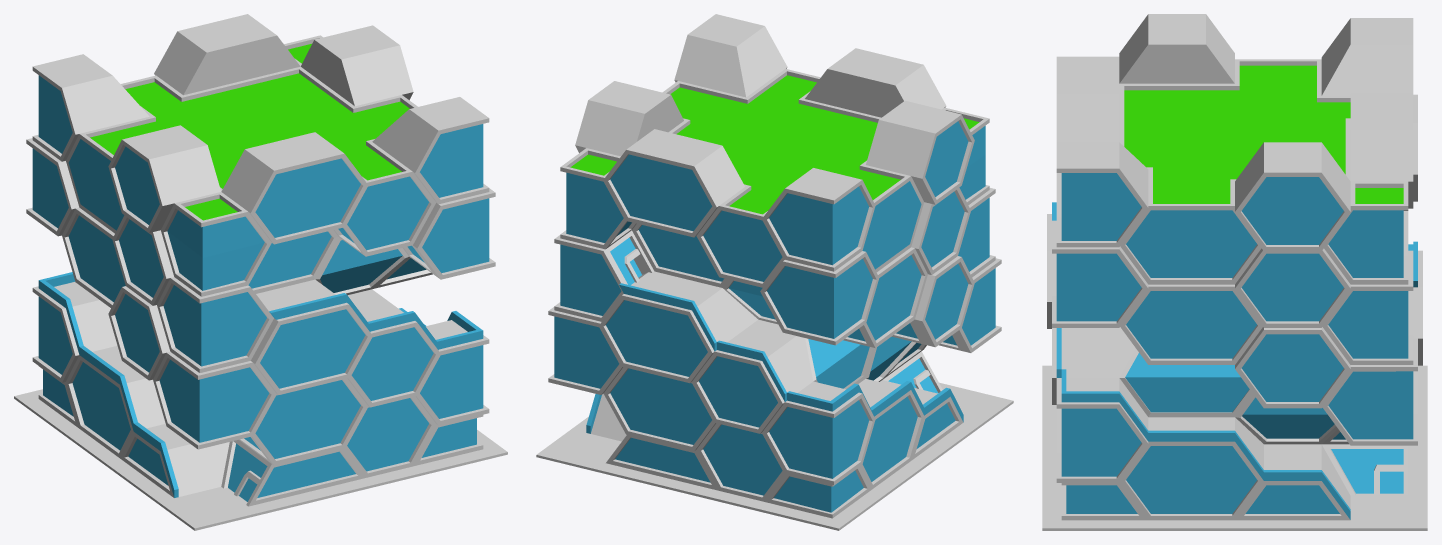
Rendered from Chroma Skyscraper R.fbx.
The picture shows the model from 3 angles, left to right: view 1: azimuth 30°, elevation 25°; view 2: azimuth 150°, elevation 25°; view 3: azimuth 270°, elevation 25°; orthographic projection. The views are drawn at different scales.
Visible parts, largest first — view 1: Cube, Ground; view 2: Cube, Ground; view 3: Cube, Ground.
Part boxes in pixels (x1,y1,x2,y2): Cube: (26, 14, 495, 506); Ground: (14, 389, 507, 530); Cube: (548, 14, 1001, 518); Ground: (536, 382, 1013, 530); Cube: (1047, 14, 1422, 520); Ground: (1042, 365, 1427, 530).
Size of the model in its own units: 2000 by 2040 by 2000.
